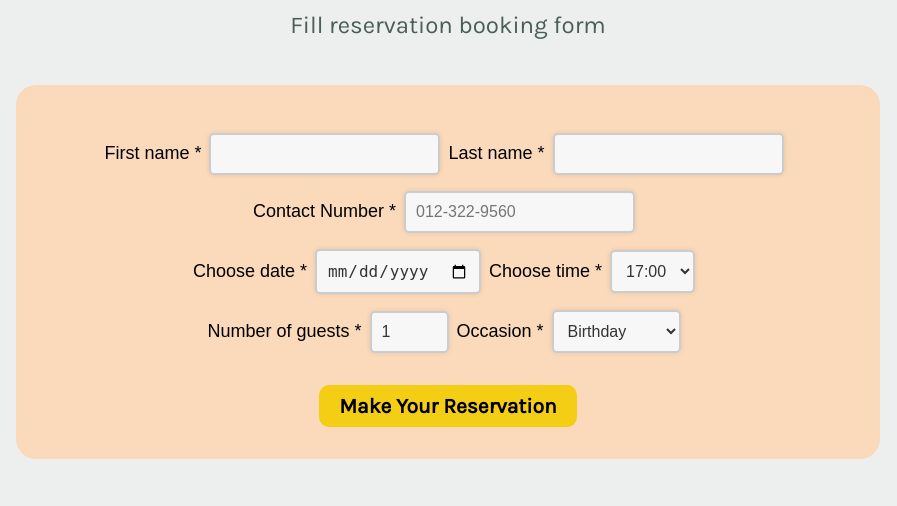
Booking form › should display an error message when date field's value is in the past
The image size is (897, 506).
Type "2000-01-01" into the date field labelled "Choose date *" at (398, 272), box [315,249,481,294]
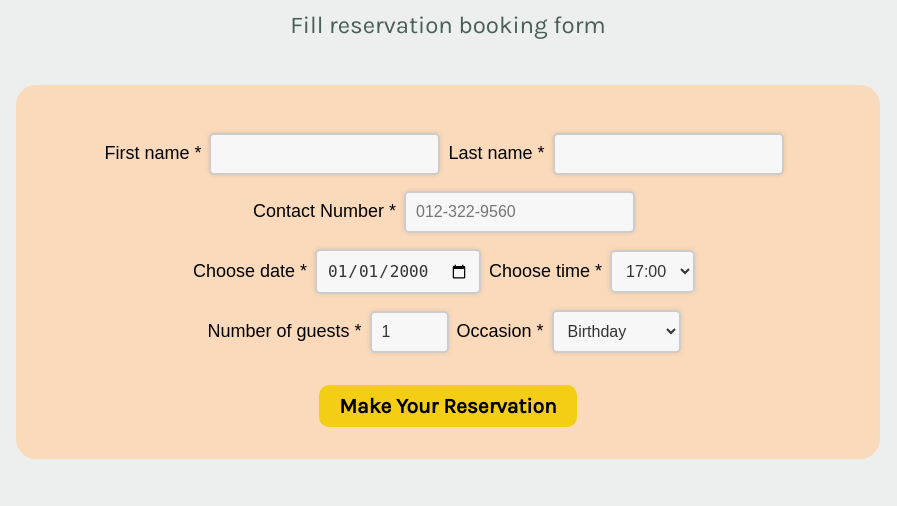
Leave the date field labelled "Choose date *", box [315,249,481,294]
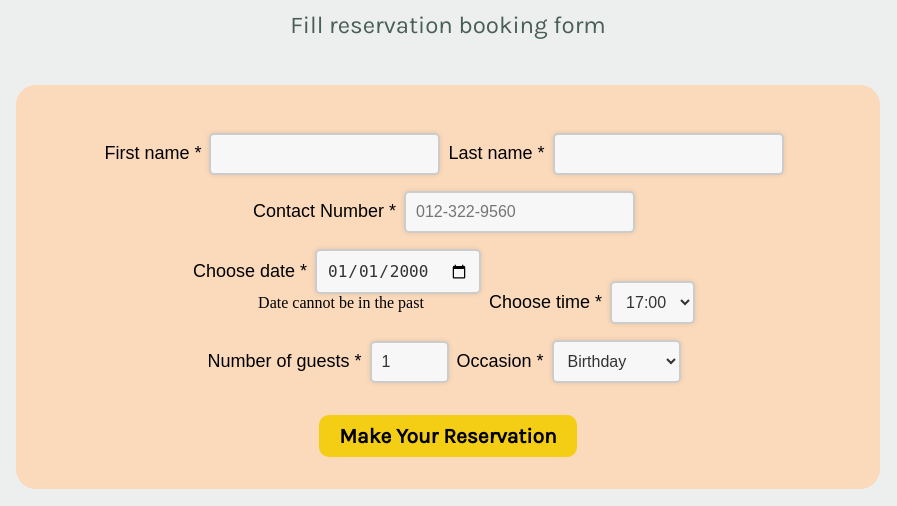
Check: the text "Date cannot be in the past" is shown, box [258,294,424,311]
